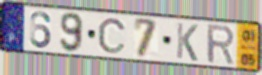6: (29, 10, 53, 50)
7: (132, 16, 161, 59)
9: (59, 12, 85, 54)
C: (96, 17, 128, 55)
K: (175, 21, 200, 64)
R: (205, 23, 236, 66)
